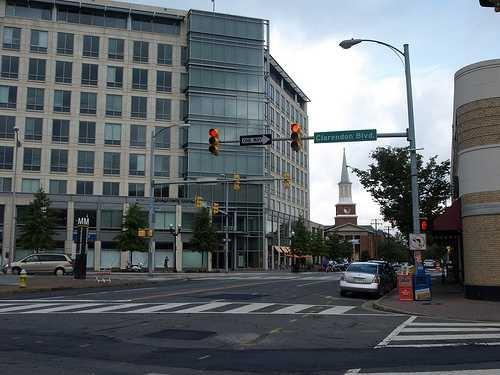red: (206, 126, 221, 158), (290, 122, 301, 153)
